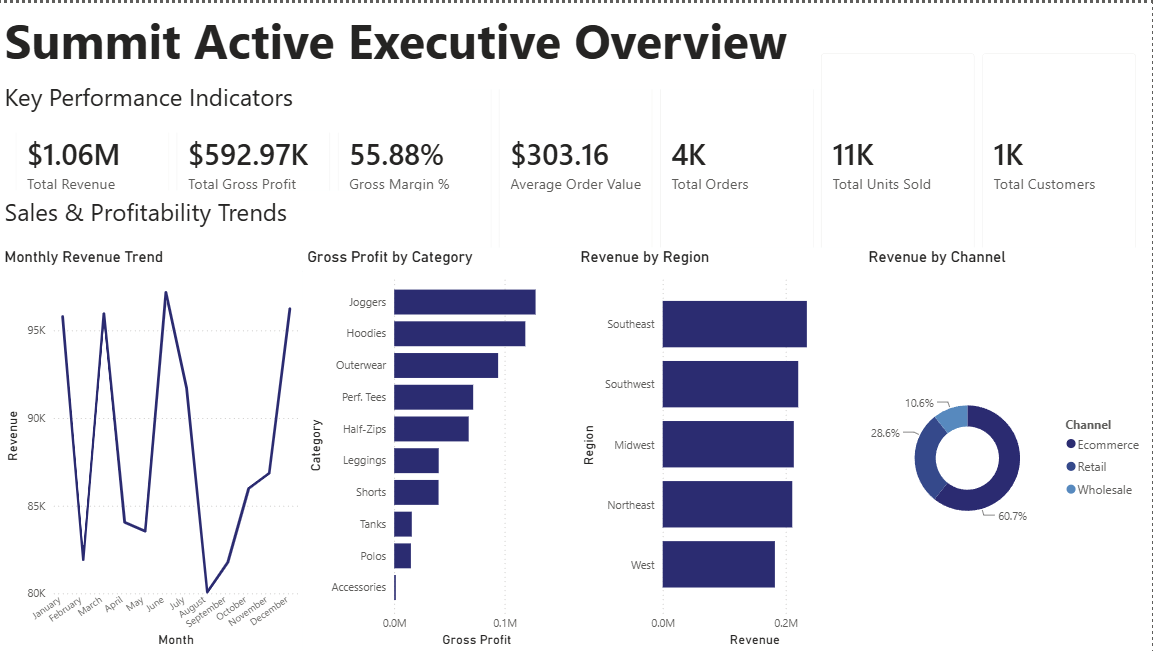

The dashboard page shown, as its layout file describes it:
{"tool":"powerbi","page":{"name":"Executive Overview","canvas":[1280,720],"ordinal":0},"visuals":[{"type":"cardVisual","fields":{"Data":["public v_executive_kpi_summary.Total Revenue","public v_category_performance.Total Gross Profit","public v_category_performance.Gross Margin %","public v_category_performance.Average Order Value","public v_category_performance.Total Orders","public v_category_performance.Total Units Sold","public v_category_performance.Total Customers"]},"box":[0,38.6,1280,277.1],"z":0},{"type":"lineChart","title":"Monthly Revenue Trend","fields":{"Category":["public v_monthly_revenue.sales_month.Variation.Date Hierarchy.Month"],"Y":["Sum(public v_monthly_revenue.revenue)"]},"box":[0,272,336,448],"z":1000},{"type":"donutChart","title":"Revenue by Channel","fields":{"Category":["public v_channel_performance.channel"],"Y":["Sum(public v_channel_performance.revenue)"]},"box":[960,272,320,448],"z":2000},{"type":"textbox","box":[0,0,912,96],"z":3000},{"type":"textbox","box":[0,208,512,64],"z":4000},{"type":"clusteredBarChart","title":"Revenue by Region","fields":{"Category":["public v_region_performance.region"],"Y":["Sum(public v_region_performance.revenue)"]},"box":[640,272,320,448],"z":5000},{"type":"textbox","box":[0,80,512,64],"z":6000},{"type":"clusteredBarChart","title":"Gross Profit by Category","fields":{"Category":["public v_category_performance.category"],"Y":["Sum(public v_category_performance.gross_profit)"]},"box":[336,272,304,448],"z":7000}]}

Visuals, with their boxes in screenshot pixels (x1, y1, x2, y2), scaled from the page's 1280x720 canvas onto the 1153x651 screenshot:
cardVisual - public v_executive_kpi_summary.Total Revenue x public v_category_performance.Total Gross Profit: pyautogui.locateOnScreen(0, 35, 1152, 285)
"Monthly Revenue Trend" lineChart: pyautogui.locateOnScreen(0, 246, 303, 650)
"Revenue by Channel" donutChart: pyautogui.locateOnScreen(865, 246, 1152, 650)
textbox: pyautogui.locateOnScreen(0, 0, 822, 87)
textbox: pyautogui.locateOnScreen(0, 188, 461, 246)
"Revenue by Region" clusteredBarChart: pyautogui.locateOnScreen(576, 246, 865, 650)
textbox: pyautogui.locateOnScreen(0, 72, 461, 130)
"Gross Profit by Category" clusteredBarChart: pyautogui.locateOnScreen(303, 246, 576, 650)
